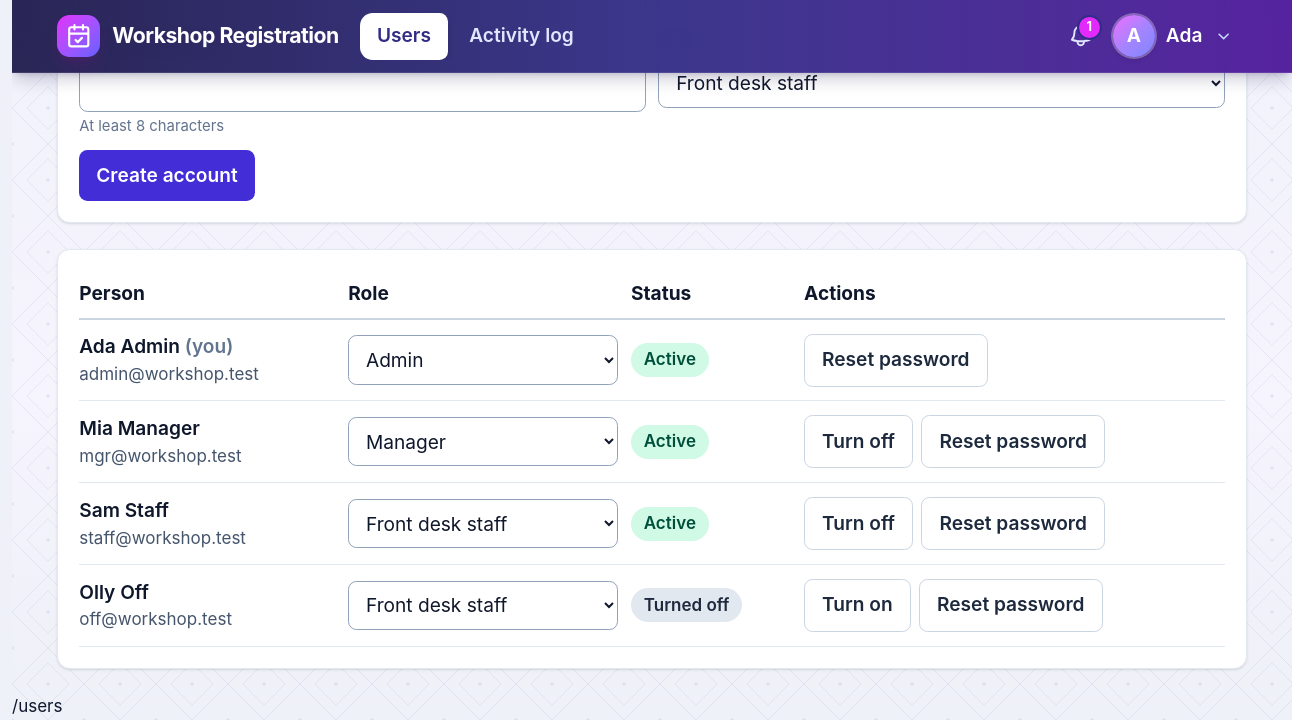
Test: Users page › shows a toast when an update is refused
This screenshot has width=1292, height=720.
(page scrolled)
Expected: the text "Sam Staff" is shown, [79,498,169,522]
Click the button "Turn off" in the row of "Sam Staff" at (859, 524), box [804,497,913,550]
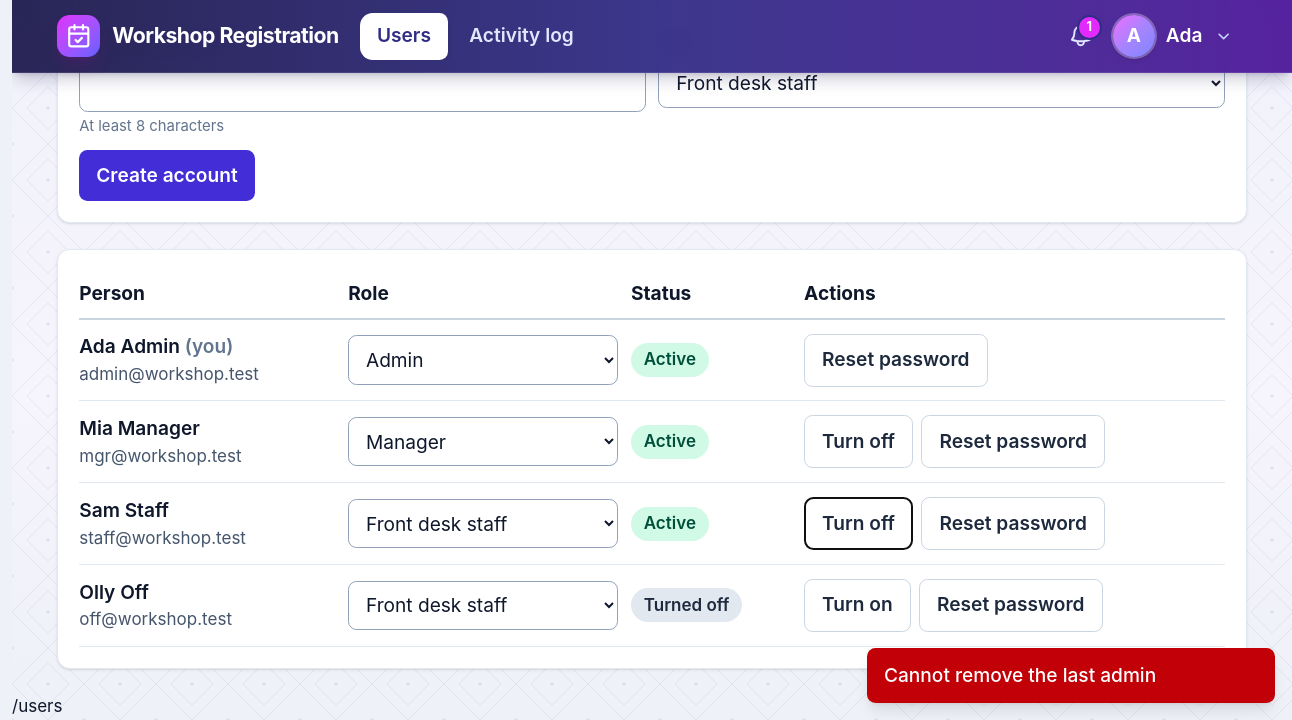
Now the text "Cannot remove the last admin" is shown, box [867,648,1275,703]
